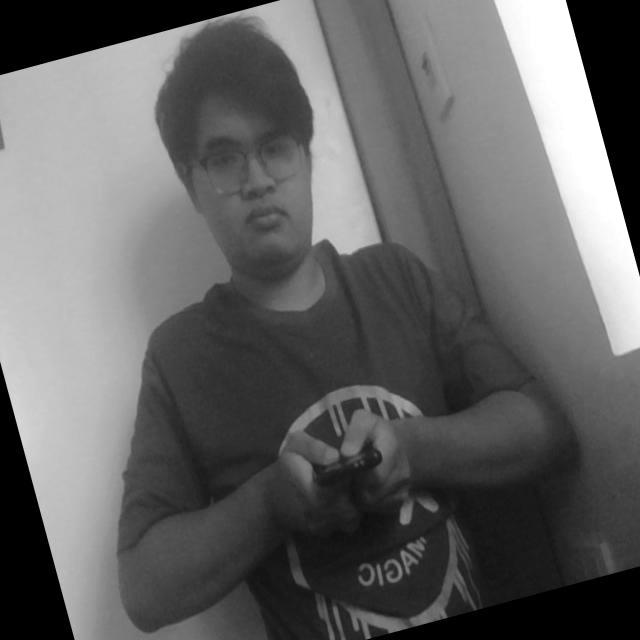phone: (293, 403, 396, 522)
